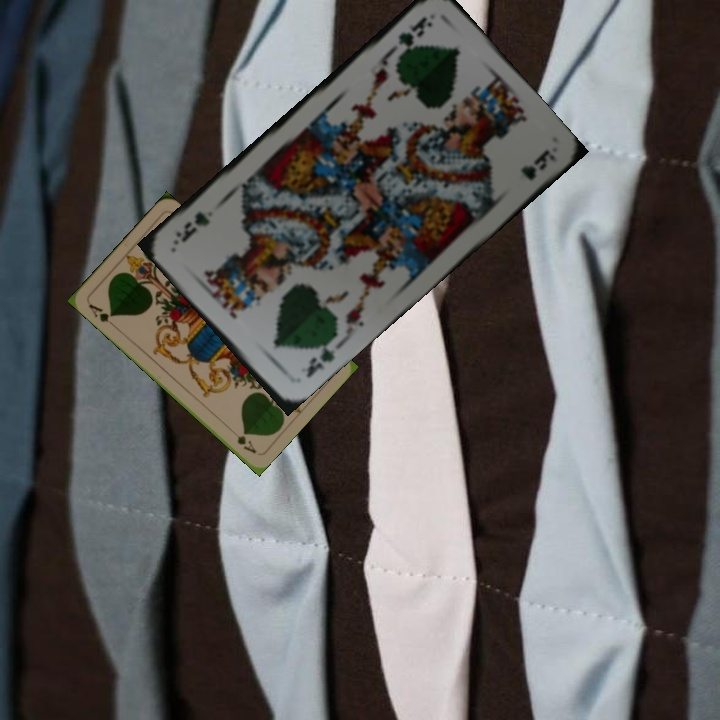GA: (84, 299, 118, 330)
GK: (392, 12, 435, 60), (301, 336, 338, 381)
